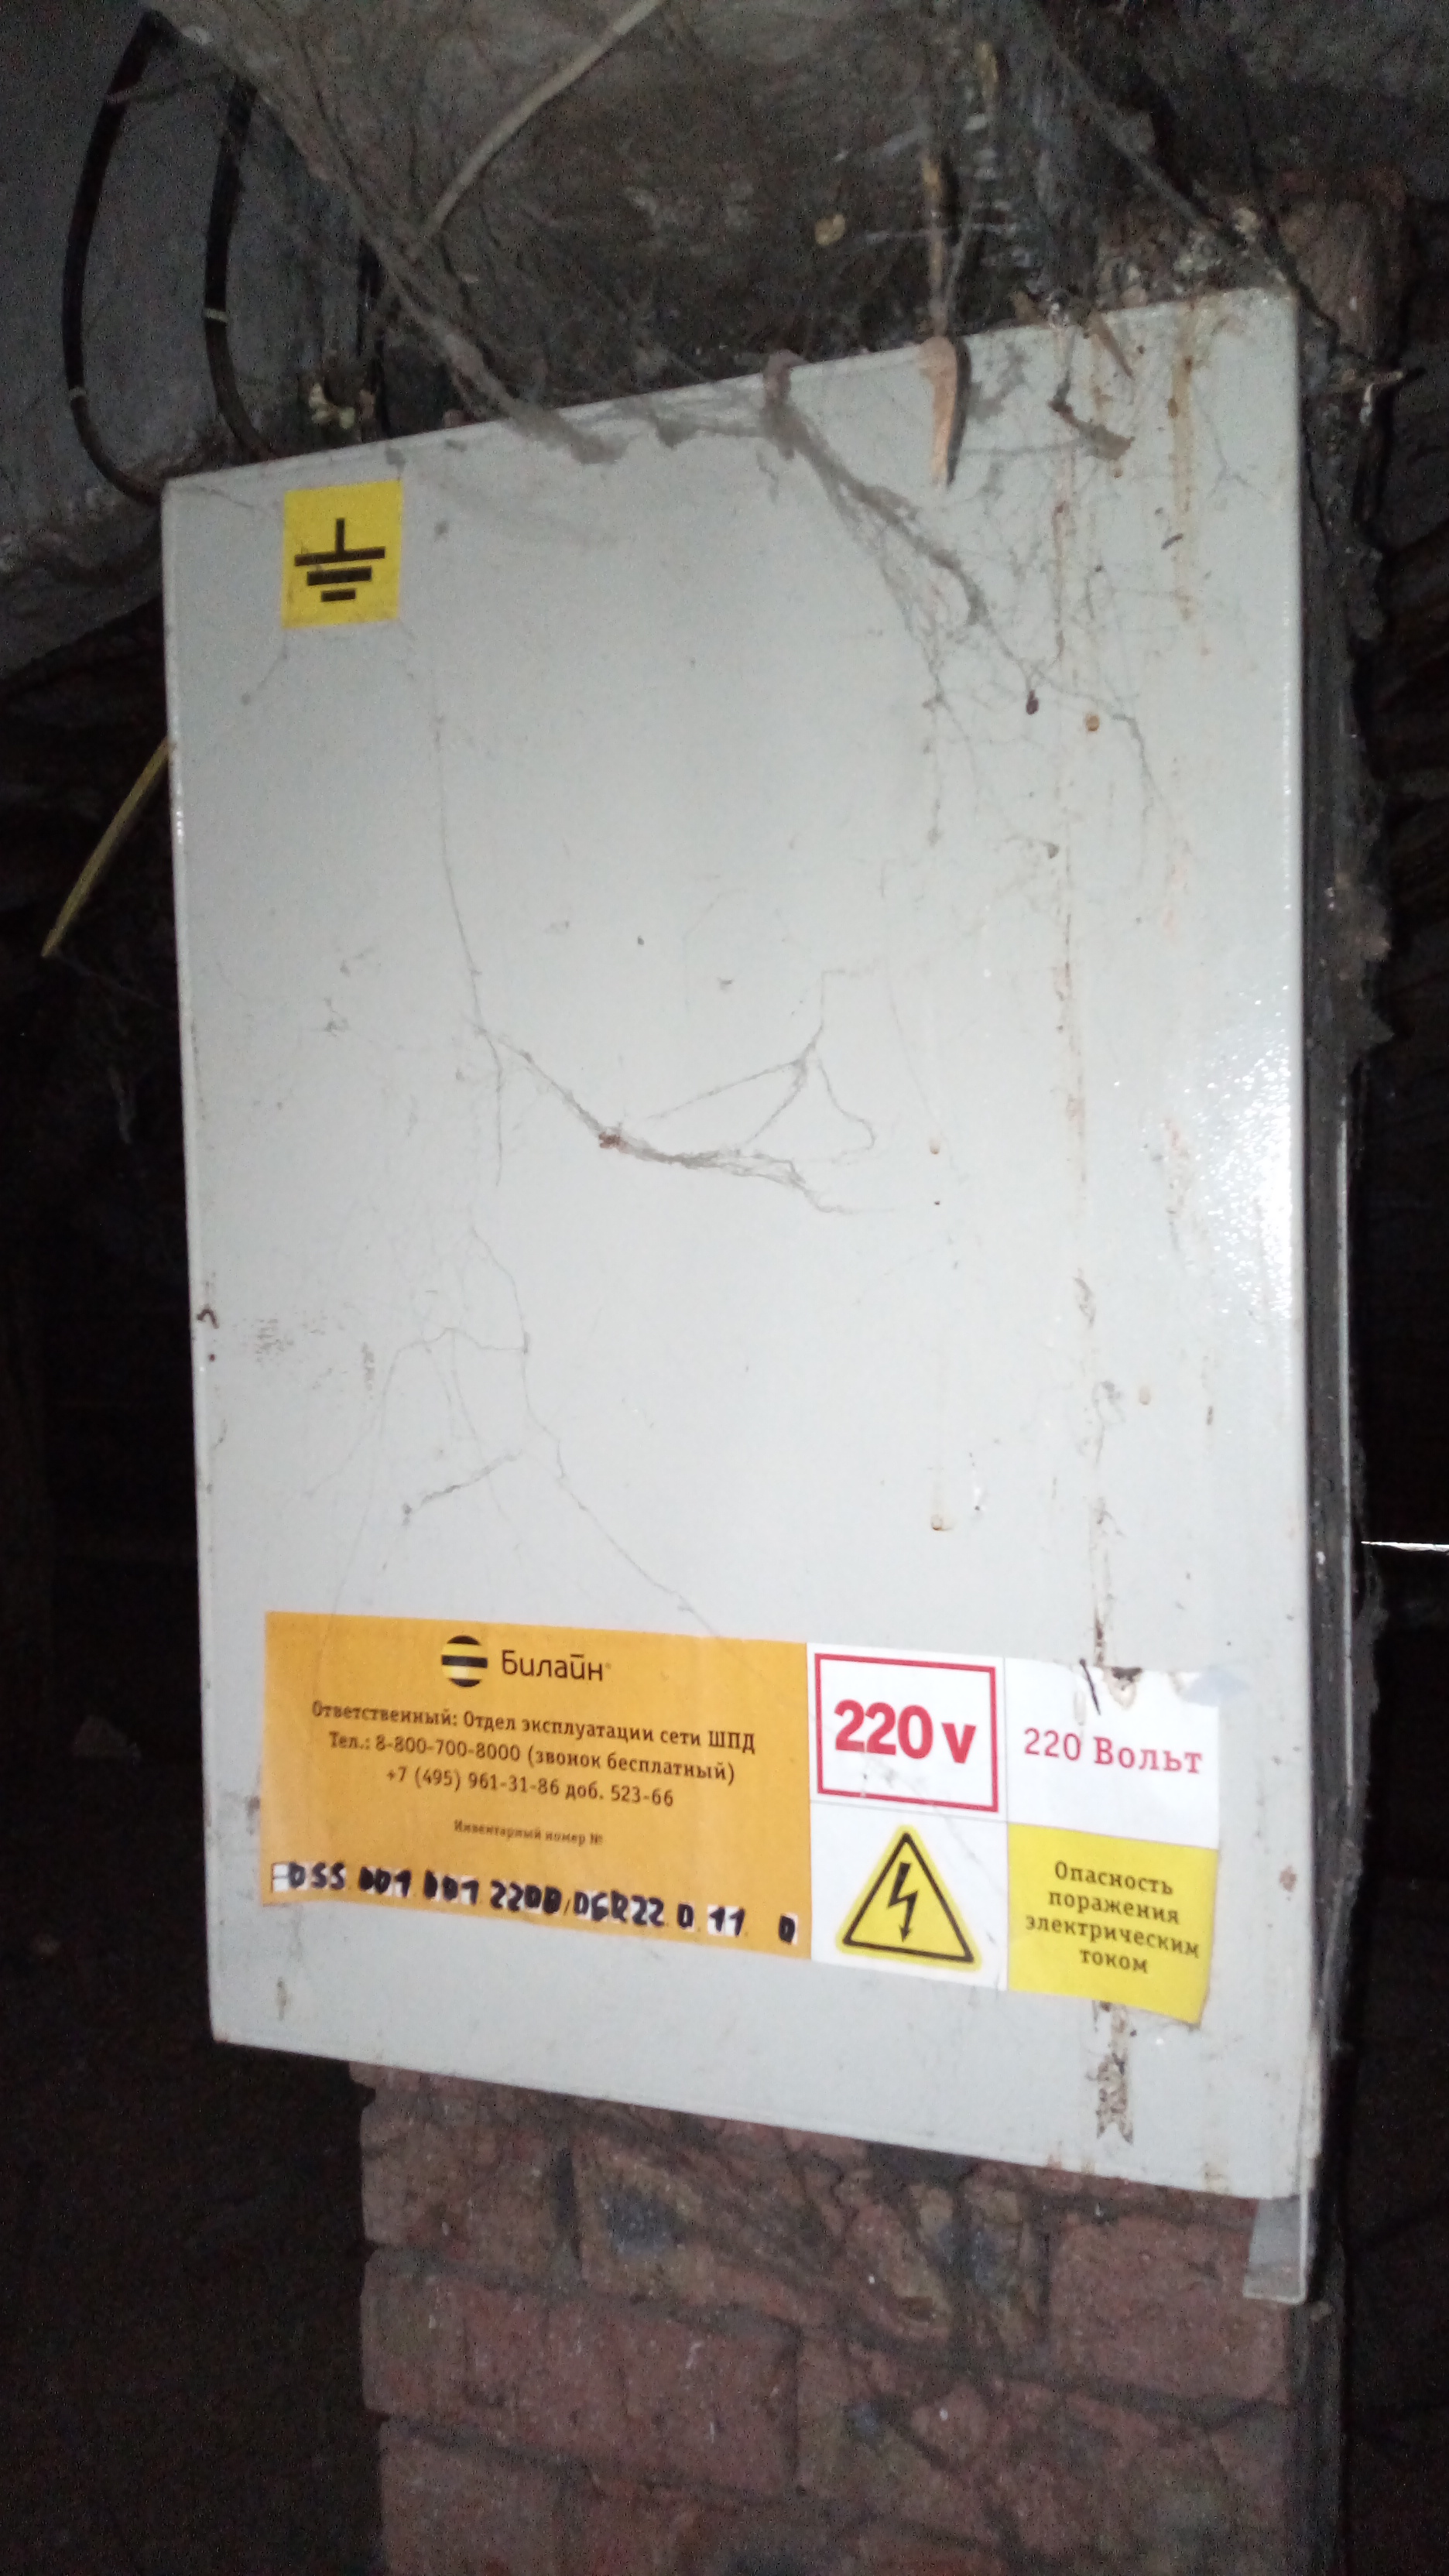sv-5: (143, 248, 1375, 2238)
